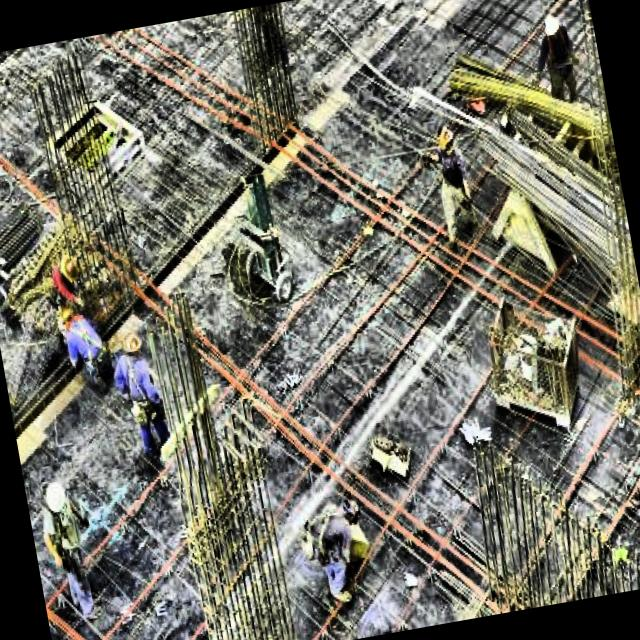helmet: (40, 476, 72, 522), (55, 248, 86, 292), (116, 324, 146, 366), (541, 5, 566, 46), (338, 489, 364, 528), (52, 300, 80, 334), (434, 119, 458, 158)
